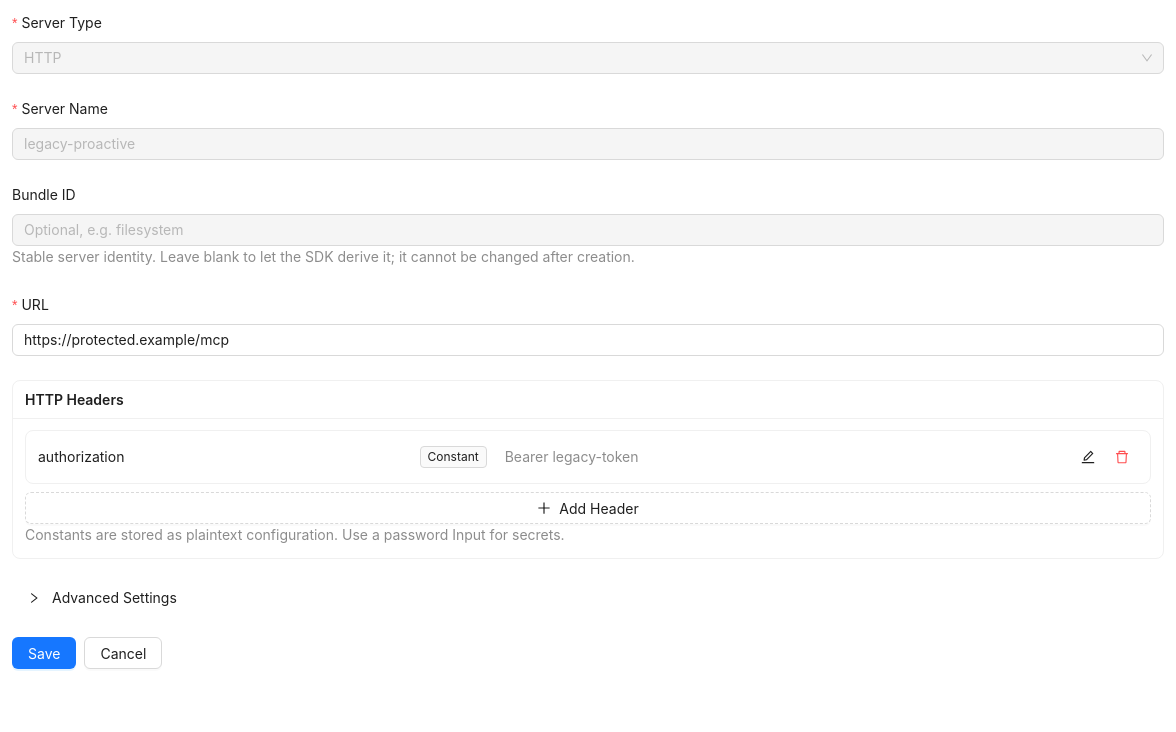
Test: HTTP OAuth configuration › rejects static Authorization headers combined with proactive OAuth
The width and height of the screenshot is (1176, 732).
Click the button "Save": (44, 653) x1=12 y1=637 x2=76 y2=669
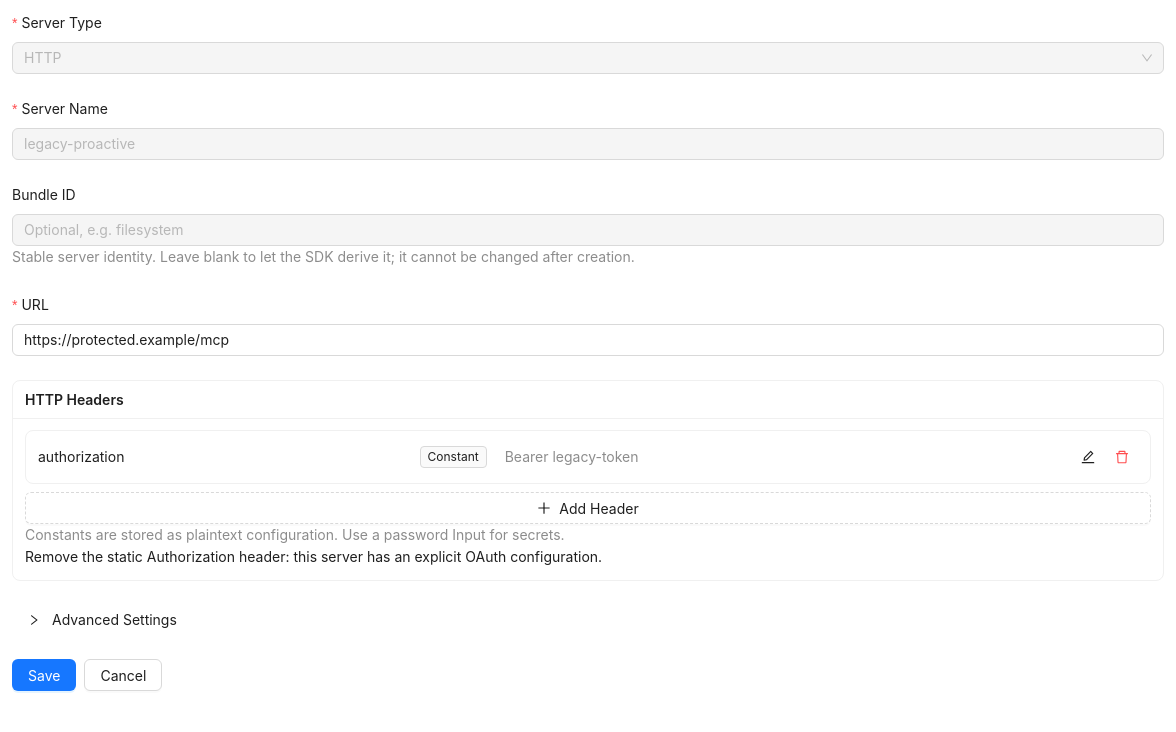
Now the text "Remove the static Authorization header: this server has an explicit OAuth configuration." is shown, box x1=25 y1=548 x2=602 y2=565
